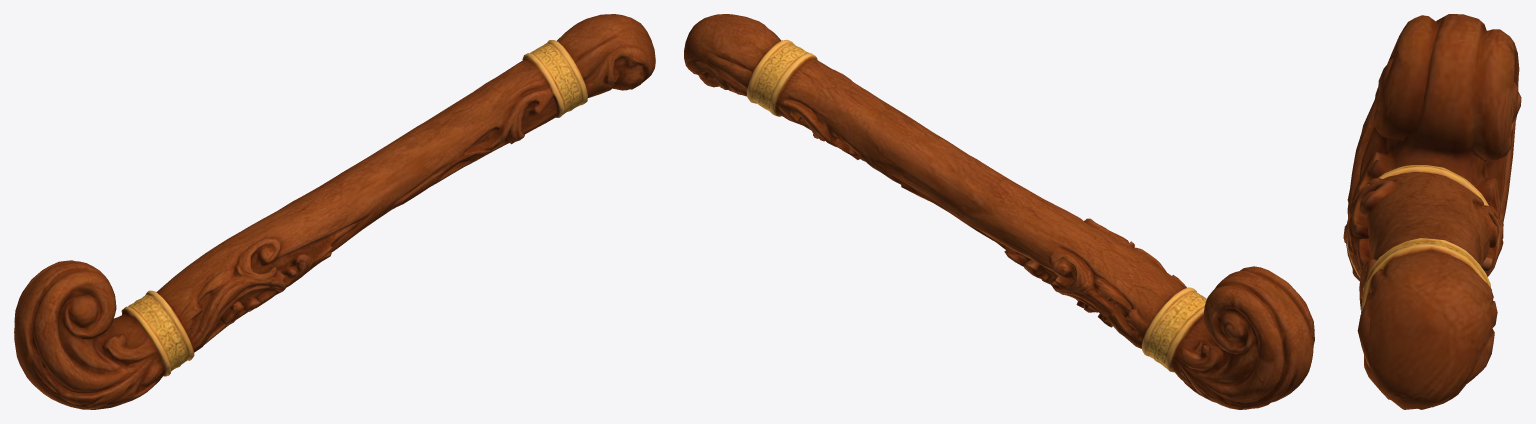
Rendered from pentungan-cepot.glb.
3 renders of one model, left to right at view 1: azimuth 30°, elevation 25°; view 2: azimuth 150°, elevation 25°; view 3: azimuth 270°, elevation 25°, orthographic. The views are drawn at different scales.
Visible parts, largest first — view 1: pentungan; view 2: pentungan; view 3: pentungan.
Boxes of the visible parts, x1,y1,x2,y2 form: pentungan: [14, 14, 655, 409]; pentungan: [684, 14, 1314, 409]; pentungan: [1343, 14, 1521, 409].
Size of the model in its own units: 0.5374 by 0.2149 by 0.0738.
1 material, 1 textured.
